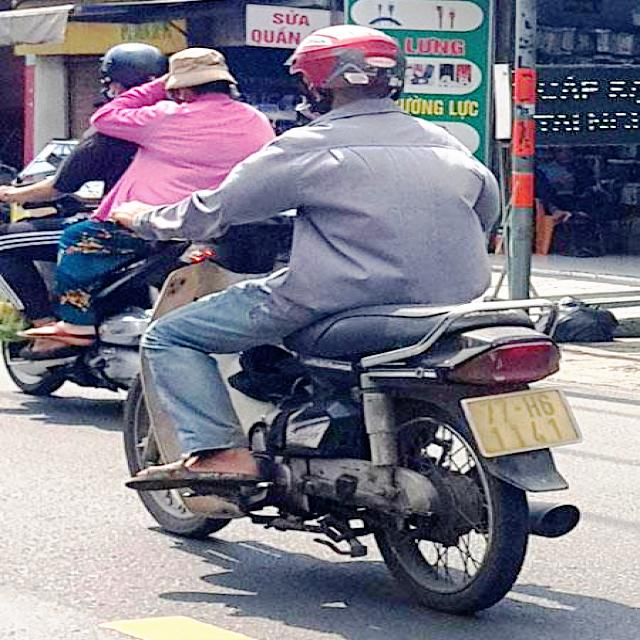license_plate: (462, 388, 580, 455)
